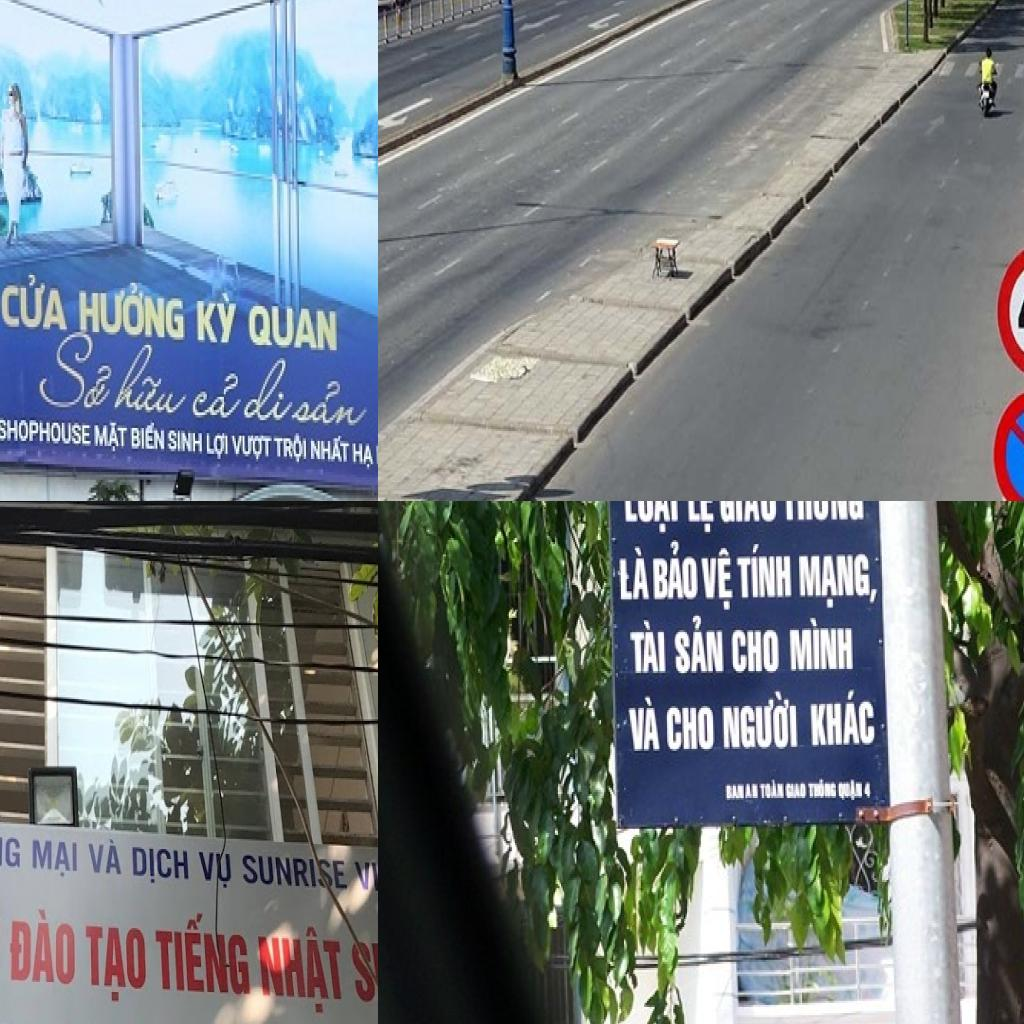text: (24, 327, 124, 420), (255, 922, 349, 1018), (151, 908, 252, 997), (74, 275, 190, 350), (110, 342, 196, 423), (246, 298, 342, 360), (6, 905, 78, 987), (238, 849, 351, 898), (289, 374, 377, 436), (721, 687, 802, 753), (84, 923, 148, 1006), (796, 552, 882, 612), (806, 683, 880, 751), (0, 269, 70, 337), (241, 356, 301, 430), (785, 616, 859, 675), (731, 538, 796, 605), (668, 612, 726, 677), (188, 368, 248, 426), (0, 414, 94, 451), (128, 839, 194, 889), (650, 540, 702, 603), (193, 288, 243, 350), (698, 540, 738, 616), (666, 702, 718, 755), (729, 628, 782, 675), (627, 618, 669, 677), (30, 834, 80, 881), (624, 696, 662, 757), (779, 501, 868, 527), (619, 501, 685, 535), (348, 939, 378, 1012), (618, 542, 652, 601), (86, 830, 126, 880), (196, 846, 237, 894), (717, 501, 780, 529), (309, 430, 352, 470), (231, 430, 273, 467), (130, 418, 168, 456), (350, 852, 378, 902), (93, 420, 130, 457), (272, 430, 309, 467), (0, 820, 24, 874), (168, 428, 205, 462), (685, 501, 719, 537), (203, 431, 231, 464), (352, 441, 378, 475), (836, 776, 865, 804), (806, 776, 838, 800), (759, 778, 785, 800), (784, 782, 808, 800), (724, 784, 745, 802), (745, 782, 761, 802), (864, 780, 872, 802)
